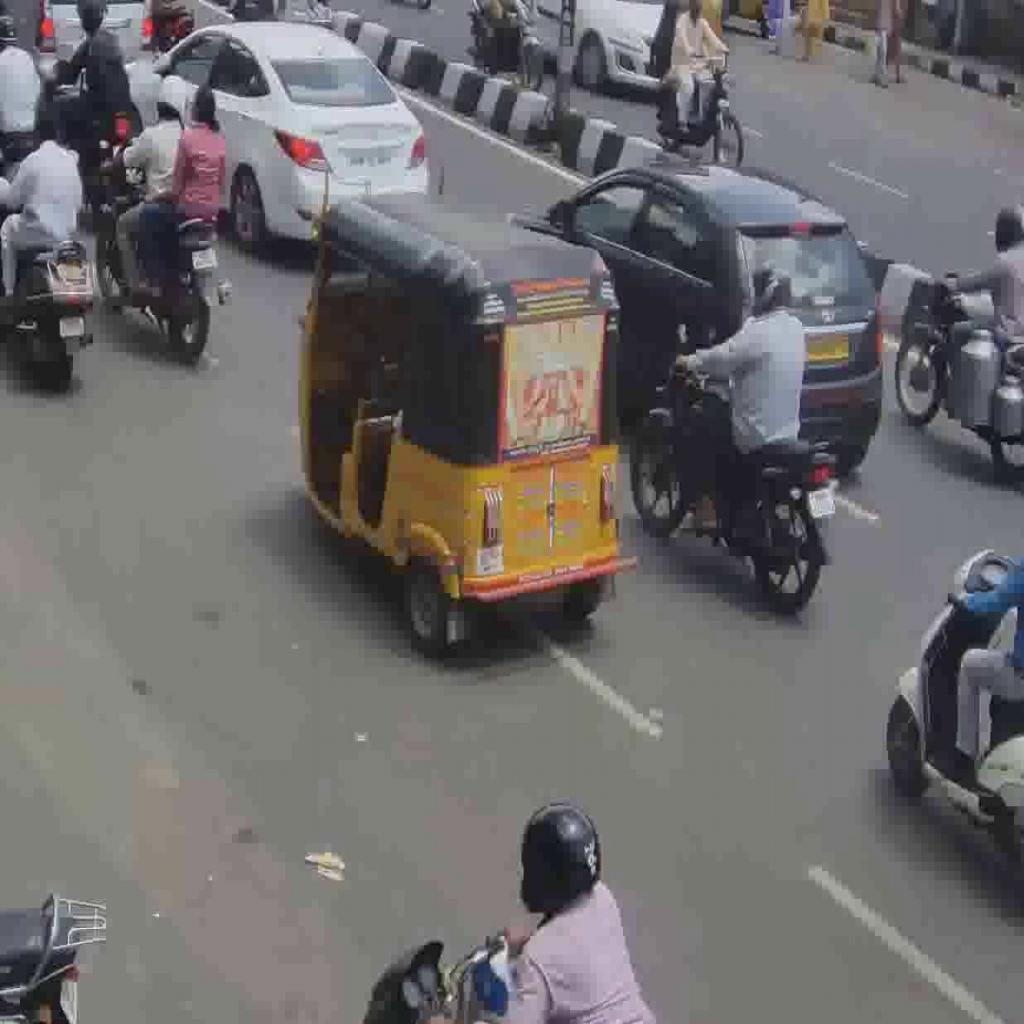helmet: (630, 347, 838, 614), (884, 547, 1024, 876), (94, 135, 235, 361), (894, 269, 1024, 475), (0, 174, 94, 391), (44, 68, 136, 217)
